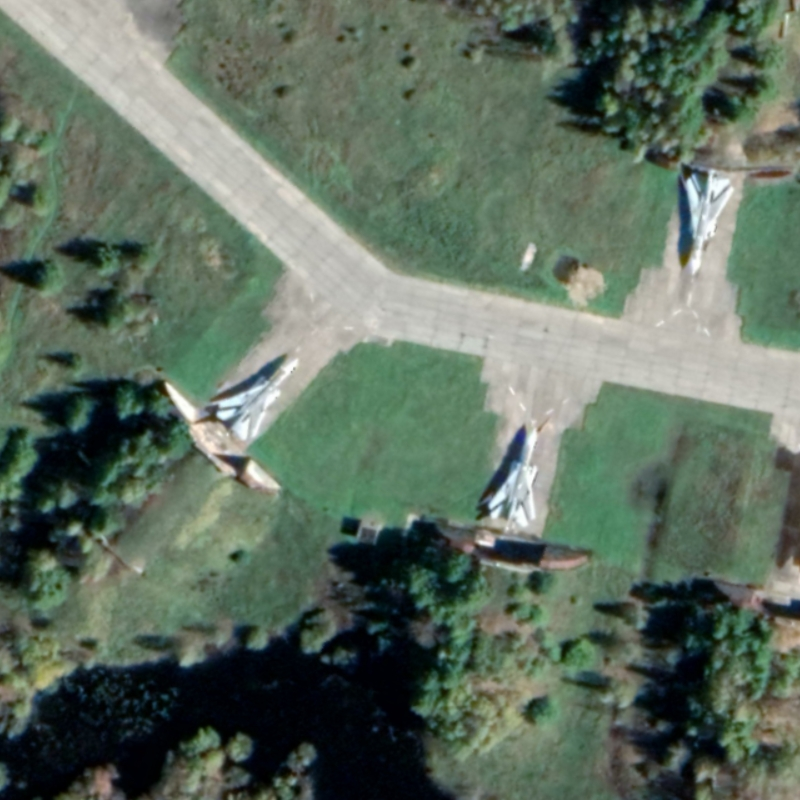A20: (212, 355, 301, 445), (682, 169, 737, 278), (485, 424, 539, 530)
